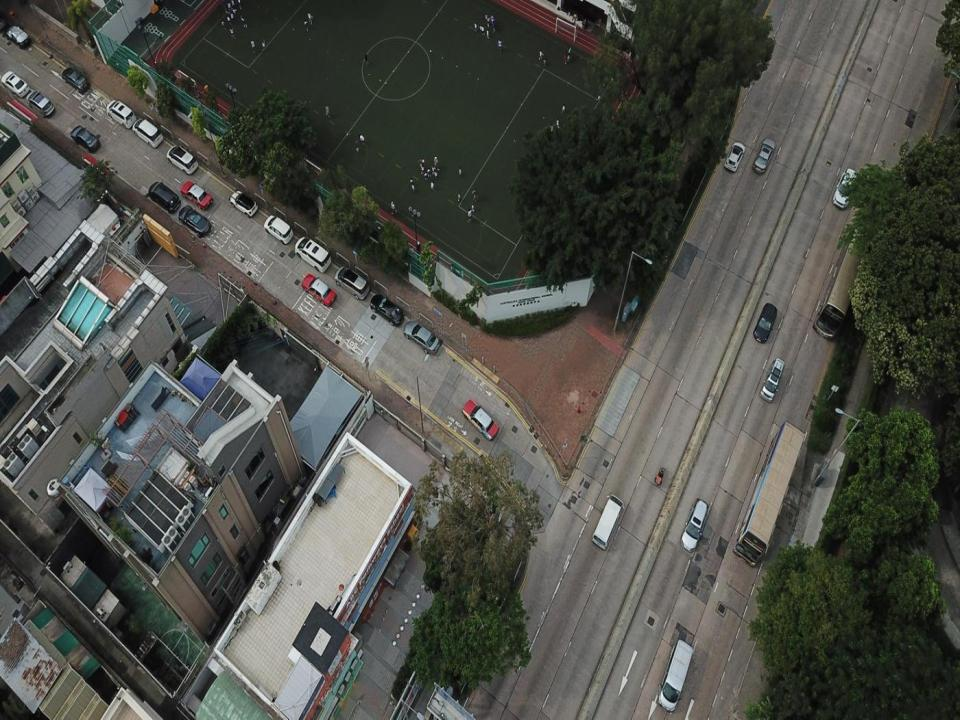bus: (732, 420, 805, 566), (812, 228, 869, 340), (592, 493, 624, 551)
car: (462, 400, 499, 442), (403, 320, 440, 354), (301, 273, 336, 306), (752, 302, 778, 344), (370, 294, 404, 326), (178, 204, 211, 236), (833, 167, 857, 209), (181, 180, 213, 209), (1, 70, 30, 99), (70, 125, 100, 153), (753, 138, 775, 174), (61, 68, 90, 94), (230, 190, 257, 217), (724, 142, 746, 172), (5, 26, 31, 48)
van: (657, 639, 692, 711), (680, 498, 708, 552), (294, 237, 331, 273), (759, 357, 785, 403), (335, 266, 370, 300), (148, 181, 180, 212), (167, 146, 198, 176), (133, 118, 163, 148), (106, 99, 136, 128), (264, 214, 293, 244), (26, 90, 54, 118)
